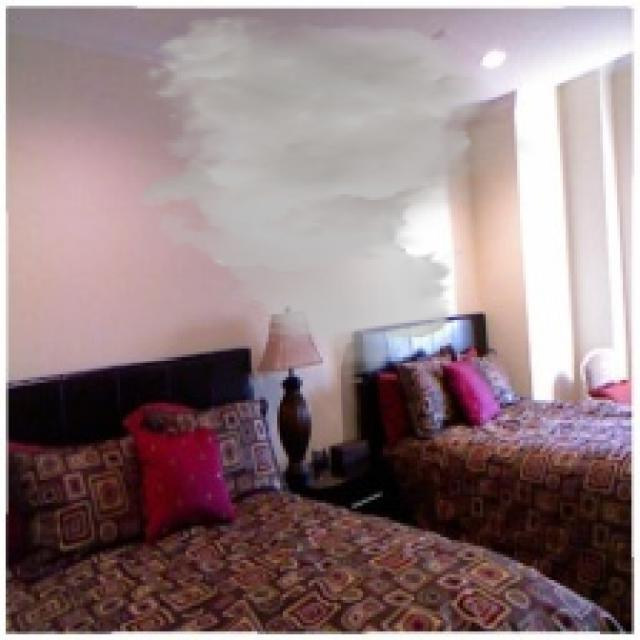smoke: (137, 14, 537, 386)
